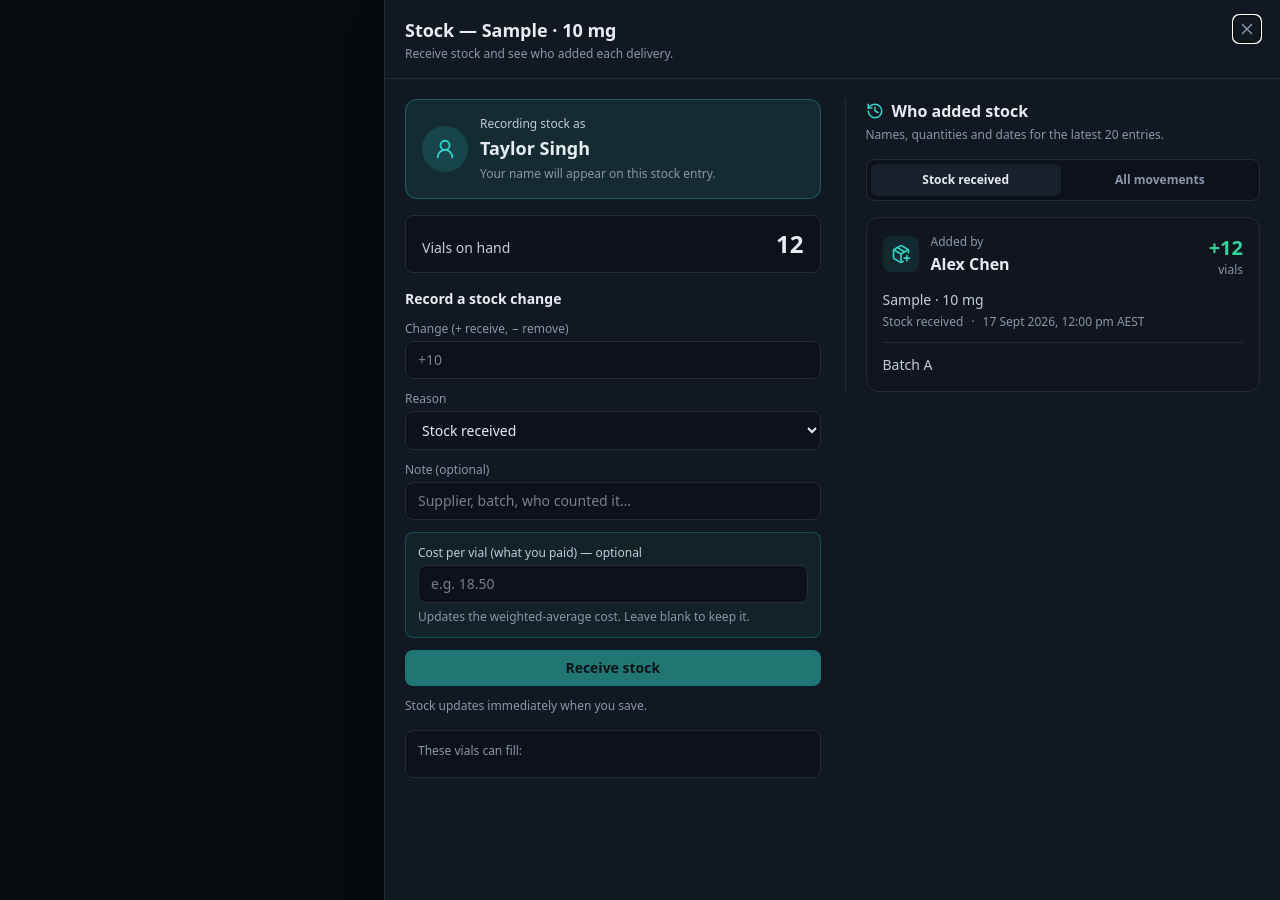
refreshes the named receipt history after a successful stock entry
This screenshot has width=1280, height=900.
Type "8" into the field labelled "Change (+ receive, − remove)". click: (613, 360)
box: [405,341,820,379]
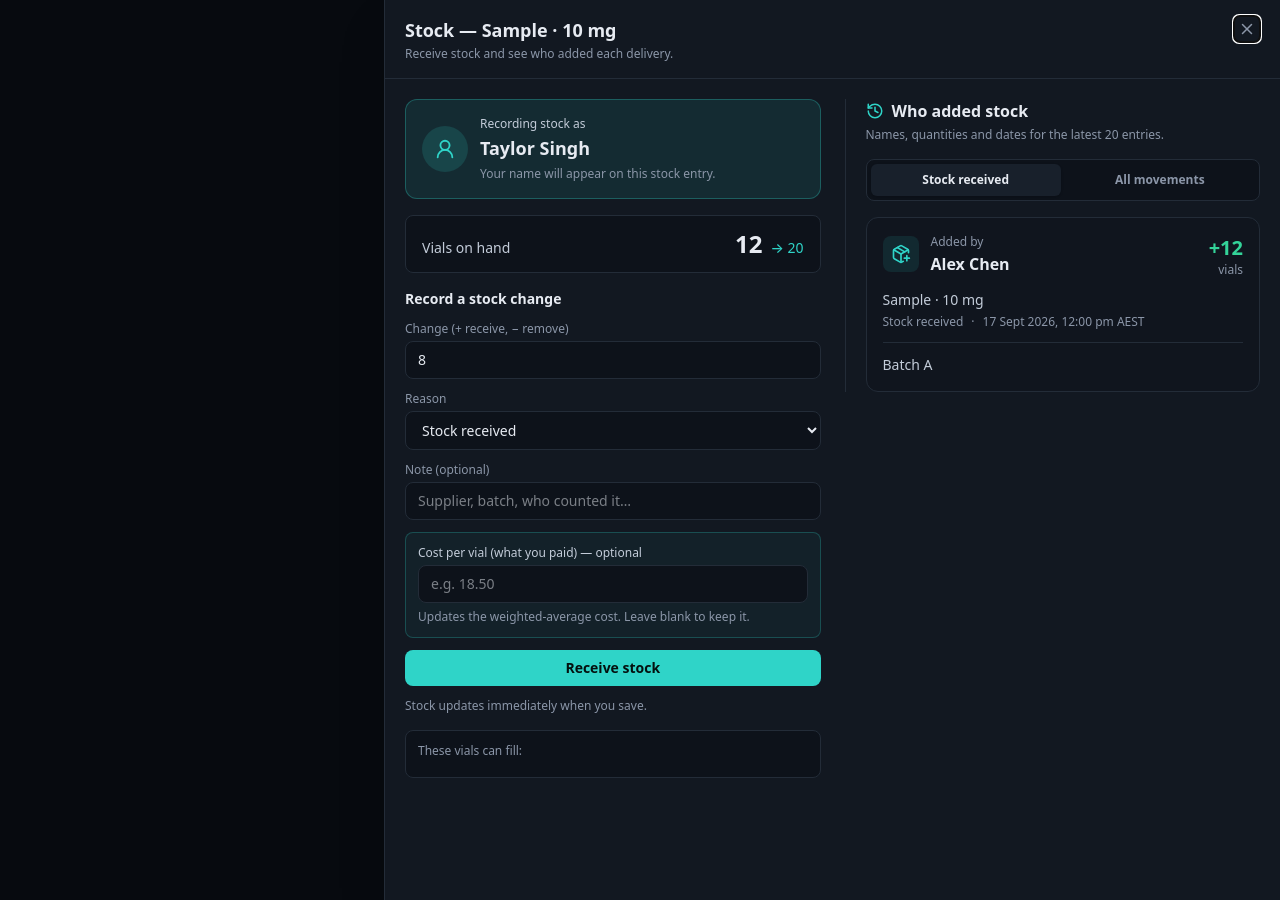
Click the button "Receive stock". click: (613, 668)
box: [405,650,820,686]
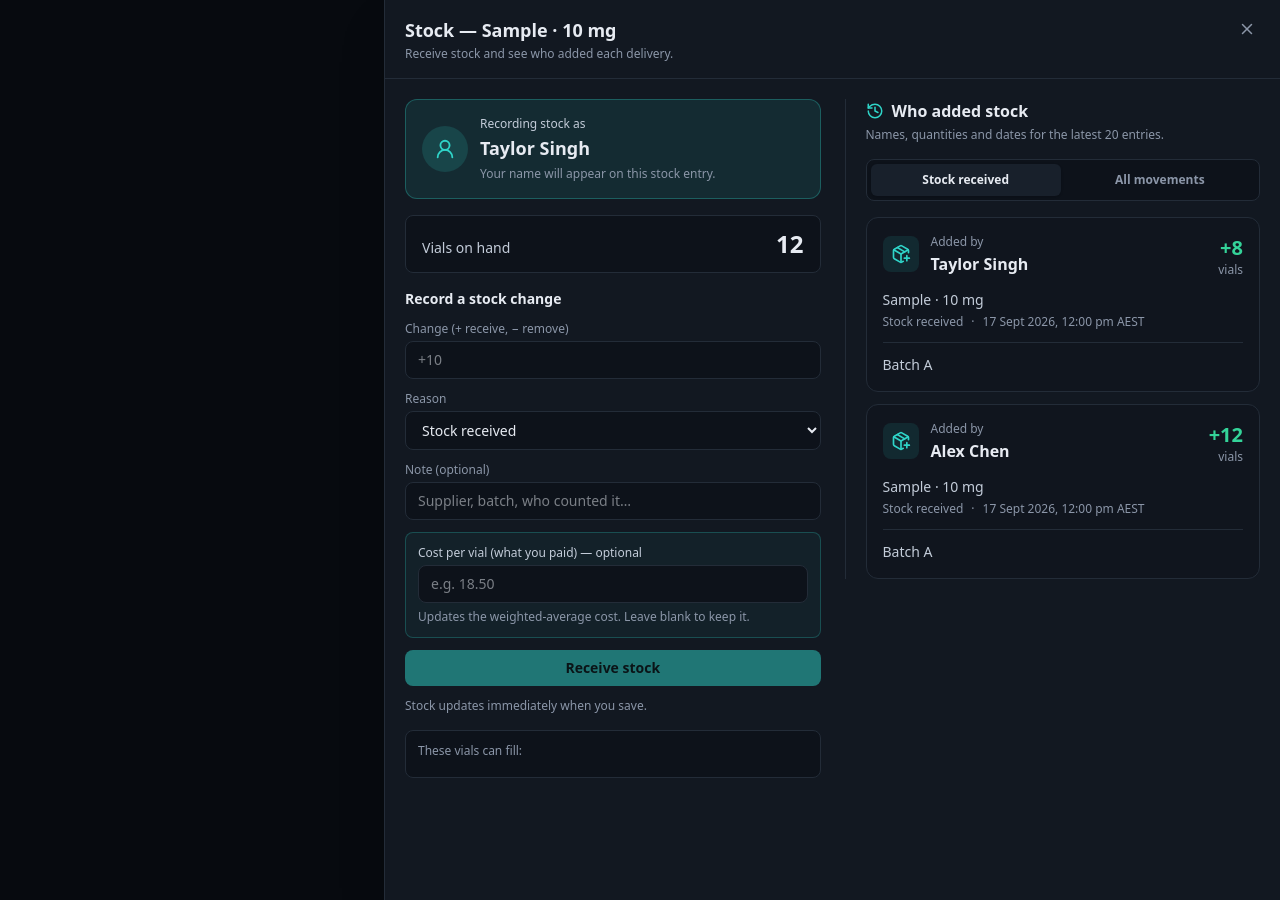
Result: the text "Taylor Singh" below "Who added stock" is shown at [930,253,1028,275]
Result: the text "+8" is shown at [1218,234,1243,262]
